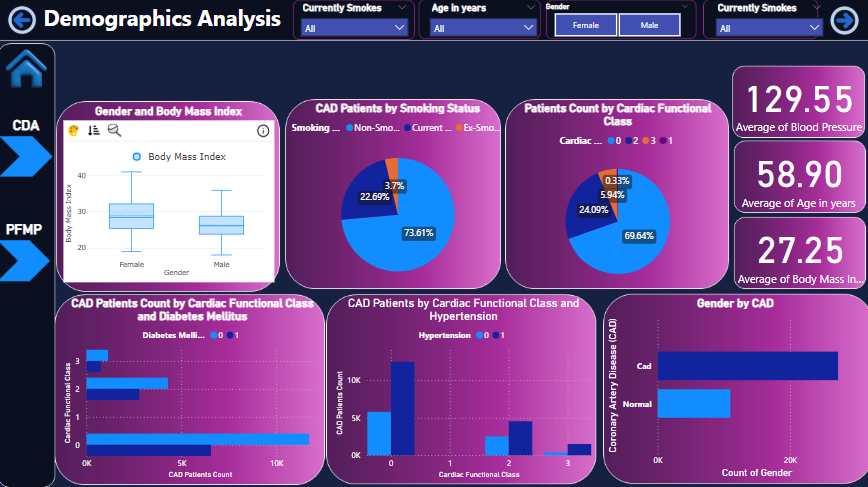

The dashboard page shown, as its layout file describes it:
{"tool":"powerbi","page":{"name":"Demographics Analysis","canvas":[1280,720],"ordinal":2},"visuals":[{"type":"barChart","title":"Gender by CAD","fields":{"Category":["CAD Dataset.Coronary Artery Disease (CAD)"],"Y":["CountNonNull(CAD Dataset.Gender)"]},"box":[891.9,436.4,386.4,273.3],"z":0},{"type":"boxandwhiskerwithpoints3B3DF5C11B683E5DB4E630DD7899B035","fields":{"col_0":["CAD Dataset.Gender"],"col_2":["CAD Dataset.Body Mass Index"]},"box":[92.6,154.3,318.9,267.4],"z":1000},{"type":"clusteredBarChart","fields":{"Category":["CAD Dataset.Cardiac Functional Class"],"Series":["CAD Dataset.Diabetes Mellitus"],"Y":["CAD Dataset.CAD Patients Count"]},"box":[92.6,436.4,389.4,273.3],"z":2000},{"type":"clusteredColumnChart","title":"CAD Patients by Cardiac Functional Class and Hypertension","fields":{"Category":["CAD Dataset.Cardiac Functional Class"],"Y":["CAD Dataset.CAD Patients Count"],"Series":["CAD Dataset.Hypertension"]},"box":[492.2,436.4,386.4,273.3],"z":3000},{"type":"slicer","fields":{"Values":["CAD Dataset.Currently Smokes"]},"box":[1046.2,0,177.8,61.7],"z":4000},{"type":"slicer","fields":{"Values":["CAD Dataset.Gender"]},"box":[793.5,0,235.1,61.7],"z":5000},{"type":"slicer","fields":{"Values":["CAD Dataset.Currently Smokes"]},"box":[436.4,0,177.8,63.2],"z":6000},{"type":"slicer","fields":{"Values":["CAD Dataset.Age in years"]},"box":[626,0,177.8,61.7],"z":7000},{"type":"pieChart","title":"CAD Patients by Smoking Status","fields":{"Category":["CAD Dataset.Smoking Status"],"Y":["CAD Dataset.CAD Patients Count"]},"box":[423.2,149.9,332.1,286.5],"z":8000},{"type":"pieChart","title":"Patients Count by Cardiac Functional Class","fields":{"Category":["CAD Dataset.Cardiac Functional Class"],"Y":["CountNonNull(CAD Dataset.ID)"]},"box":[755.3,149.9,314.4,286.5],"z":9000},{"type":"card","fields":{"Values":["Avg(CAD Dataset.Age in years)"]},"box":[1082.9,198.4,189.6,126.4],"z":10000},{"type":"card","fields":{"Values":["Avg(CAD Dataset.Body Mass Index)"]},"box":[1082.9,310,196.9,126.4],"z":11000},{"type":"card","fields":{"Values":["Avg(CAD Dataset.Blood Pressure)"]},"box":[1077.1,91.1,202.8,117.6],"z":12000},{"type":"image","box":[1211.1,0,68.3,63.5],"z":13000},{"type":"image","box":[0,0,73,61.9],"z":14000},{"type":"image","box":[0,63.5,85.7,77.8],"z":15000},{"type":"shape","title":"CDA","box":[2.9,173.4,79.3,88.2],"z":16000},{"type":"textbox","box":[63.2,0,373.2,61.7],"z":17000},{"type":"shape","title":"PFMP","box":[0,325.8,78.8,89.4],"z":18000}]}

Visuals, with their boxes in screenshot pixels (x1, y1, x2, y2), scaled from the page's 1280x720 canvas onto the 868x487 screenshot:
"Gender by CAD" barChart: <box>605,295,867,480</box>
boxandwhiskerwithpoints3B3DF5C11B683E5DB4E630DD7899B035 - CAD Dataset.Gender x CAD Dataset.Body Mass Index: <box>63,104,279,285</box>
clusteredBarChart - CAD Dataset.Cardiac Functional Class x CAD Dataset.Diabetes Mellitus: <box>63,295,327,480</box>
"CAD Patients by Cardiac Functional Class and Hypertension" clusteredColumnChart: <box>334,295,596,480</box>
slicer - CAD Dataset.Currently Smokes: <box>709,0,830,42</box>
slicer - CAD Dataset.Gender: <box>538,0,698,42</box>
slicer - CAD Dataset.Currently Smokes: <box>296,0,417,43</box>
slicer - CAD Dataset.Age in years: <box>425,0,545,42</box>
"CAD Patients by Smoking Status" pieChart: <box>287,101,512,295</box>
"Patients Count by Cardiac Functional Class" pieChart: <box>512,101,725,295</box>
card - Avg(CAD Dataset.Age in years): <box>734,134,863,220</box>
card - Avg(CAD Dataset.Body Mass Index): <box>734,210,867,295</box>
card - Avg(CAD Dataset.Blood Pressure): <box>730,62,867,141</box>
image: <box>821,0,867,43</box>
image: <box>0,0,50,42</box>
image: <box>0,43,58,96</box>
"CDA" shape: <box>2,117,56,177</box>
textbox: <box>43,0,296,42</box>
"PFMP" shape: <box>0,220,53,281</box>
